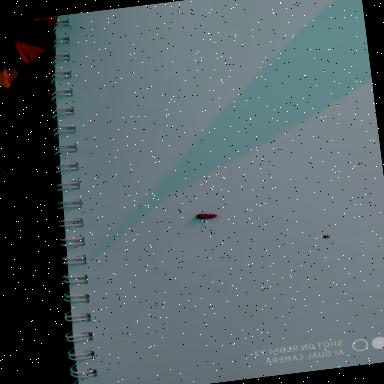pbw: (194, 208, 224, 222)
